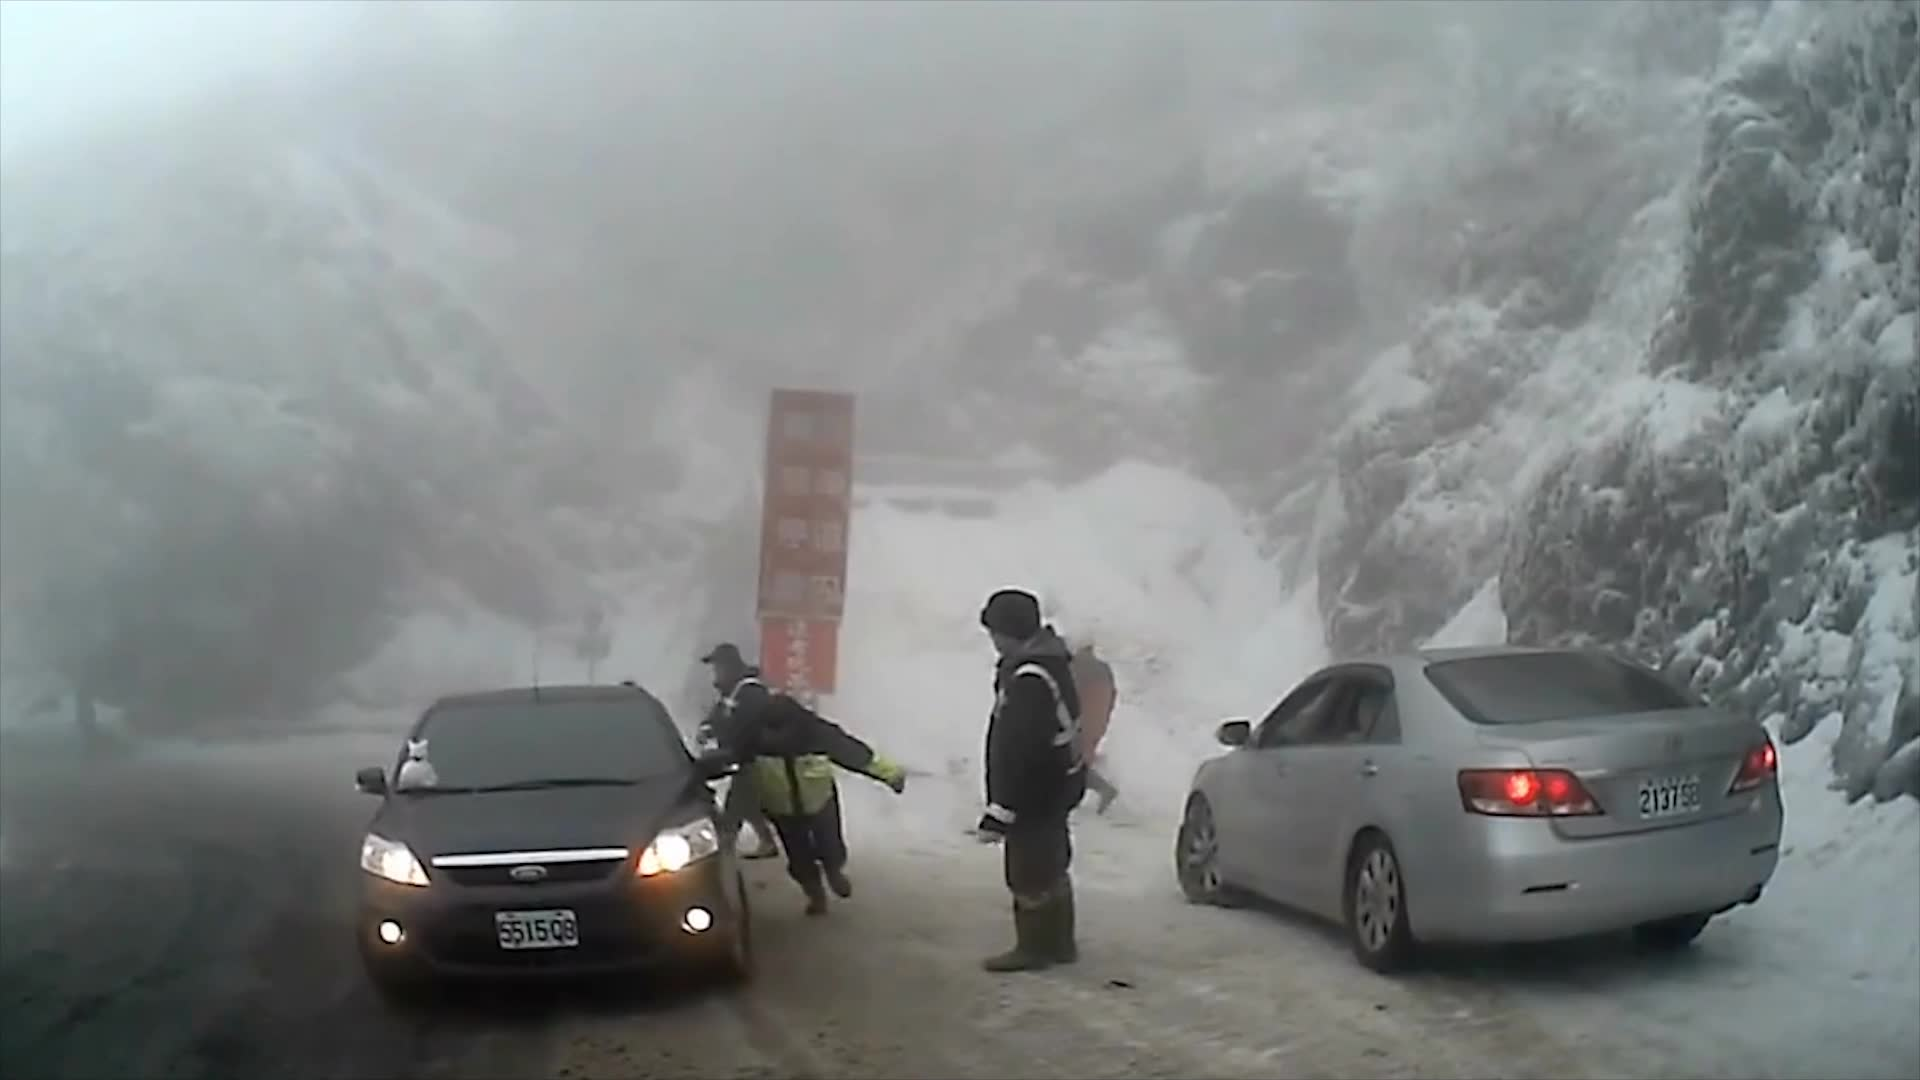pedestrian: (965, 589, 1094, 975), (692, 692, 906, 917), (696, 640, 789, 863), (1050, 625, 1129, 815)
vehicle: (1174, 644, 1785, 971), (348, 682, 759, 997)
